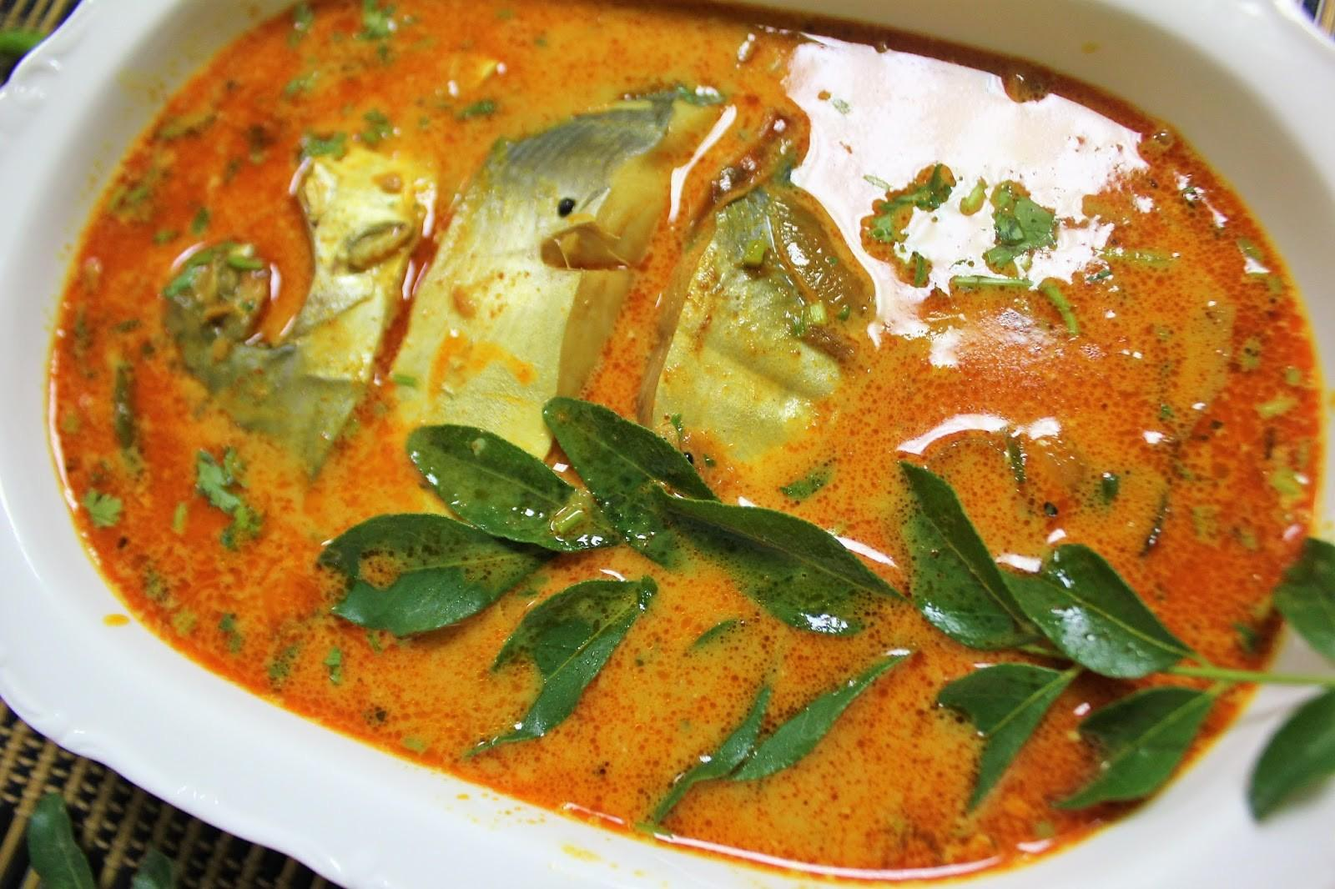FishCurry: (56, 0, 1327, 879)
